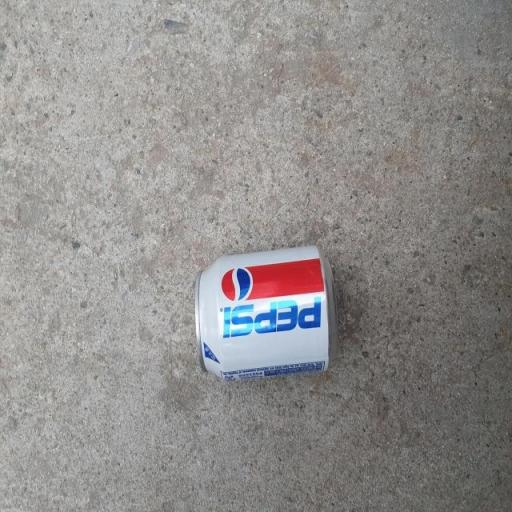metal: (166, 225, 353, 417)
